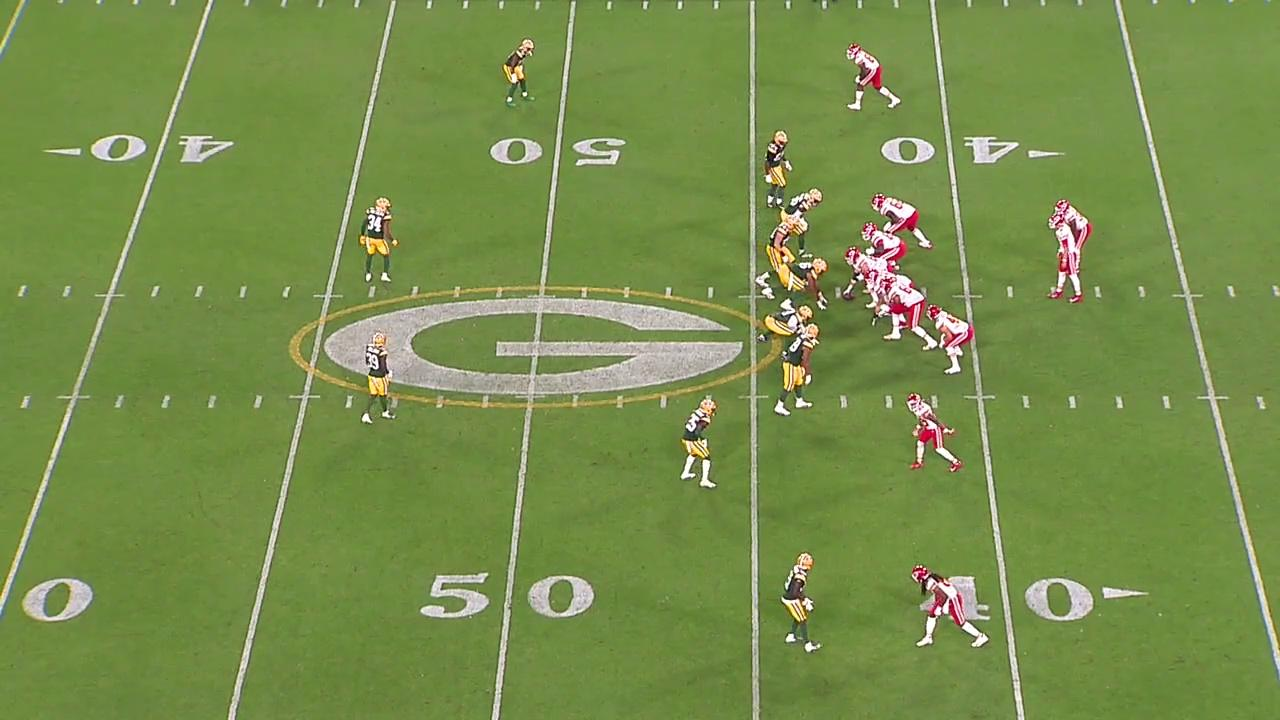player: (910, 562, 992, 653), (906, 392, 963, 479), (776, 323, 821, 416), (881, 277, 937, 351), (845, 43, 902, 114), (359, 191, 399, 285), (782, 551, 819, 651), (680, 394, 718, 491), (359, 322, 395, 424), (873, 194, 934, 251), (1048, 218, 1087, 306), (926, 304, 973, 375), (843, 246, 893, 308), (765, 259, 829, 307), (758, 217, 799, 285), (867, 270, 913, 324), (787, 187, 822, 256), (1052, 198, 1090, 261), (765, 128, 793, 211), (756, 303, 813, 342), (506, 38, 537, 109), (861, 221, 907, 262)
